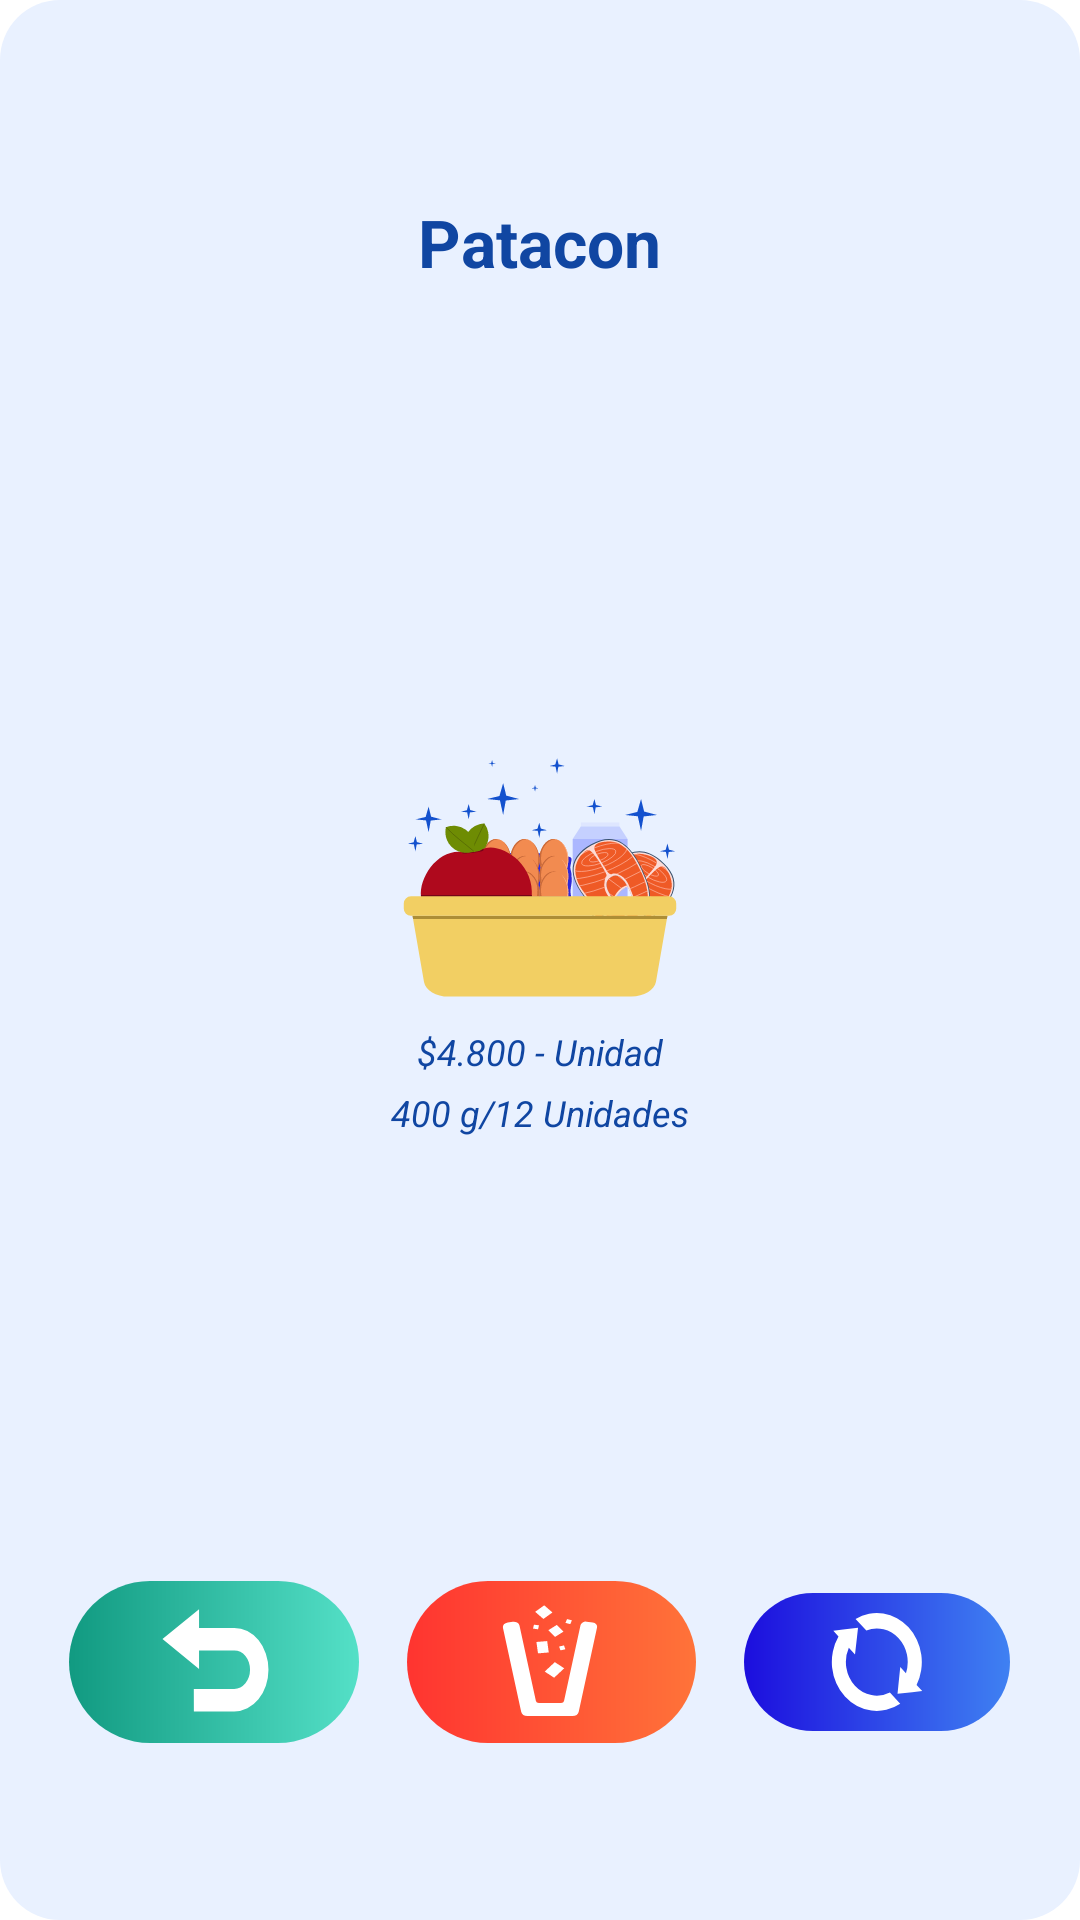

Screen size 1080 × 1920. Icon name, then its center in pixels as (x=x, y=y):
actualizar: (x=877, y=1662)
atras: (x=218, y=1662)
basura blanco: (x=556, y=1662)
